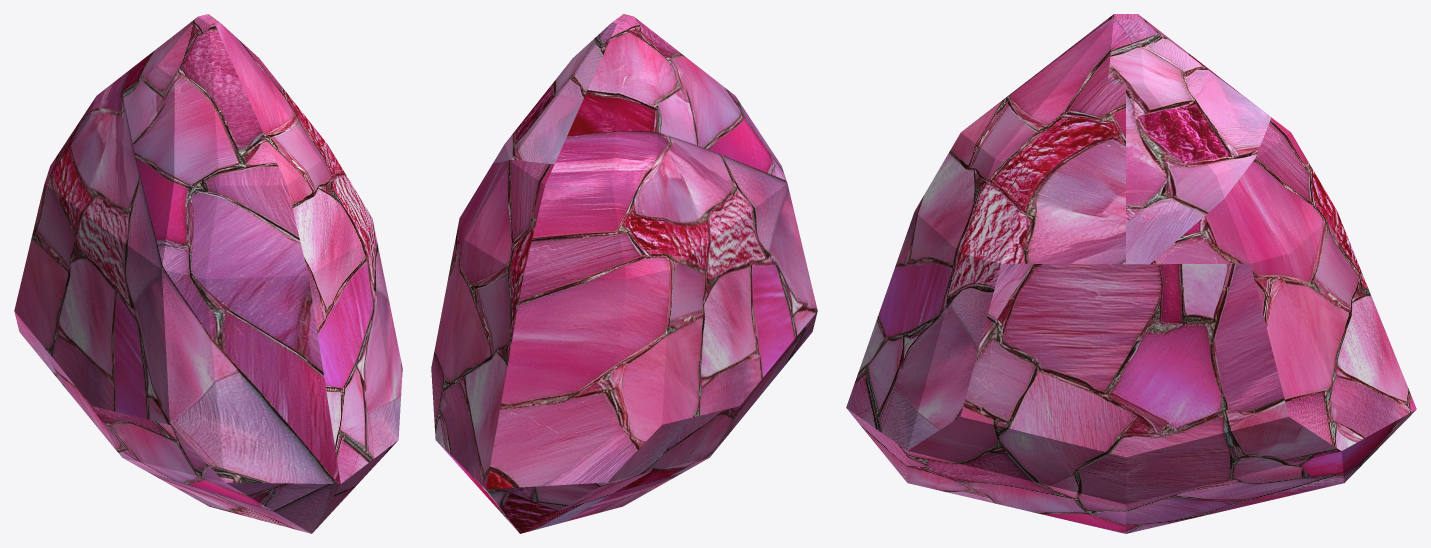
The model's file is gemstone5PinkCompressed.glb.
3 views of the same model, side by side, from view 1: azimuth 30°, elevation 25°; view 2: azimuth 150°, elevation 25°; view 3: azimuth 270°, elevation 25° (orthographic). The views are drawn at different scales.
Visible parts, largest first — view 1: gemstone4; view 2: gemstone4; view 3: gemstone4.
Boxes of the visible parts, bbox=[...] form: gemstone4: bbox=[14, 14, 402, 533]; gemstone4: bbox=[431, 14, 817, 533]; gemstone4: bbox=[846, 14, 1416, 533].
Size of the model in its own units: 0.5 by 1 by 1.
1 material, 1 textured.
